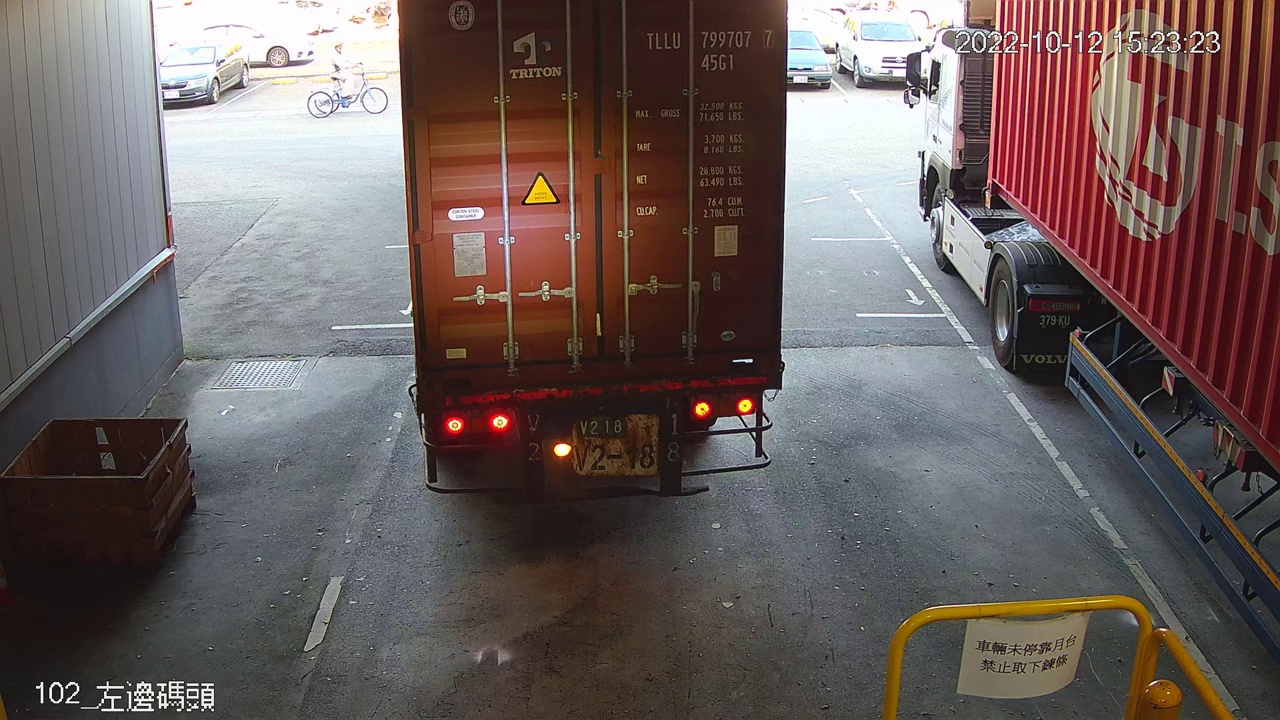container: (642, 23, 778, 76)
